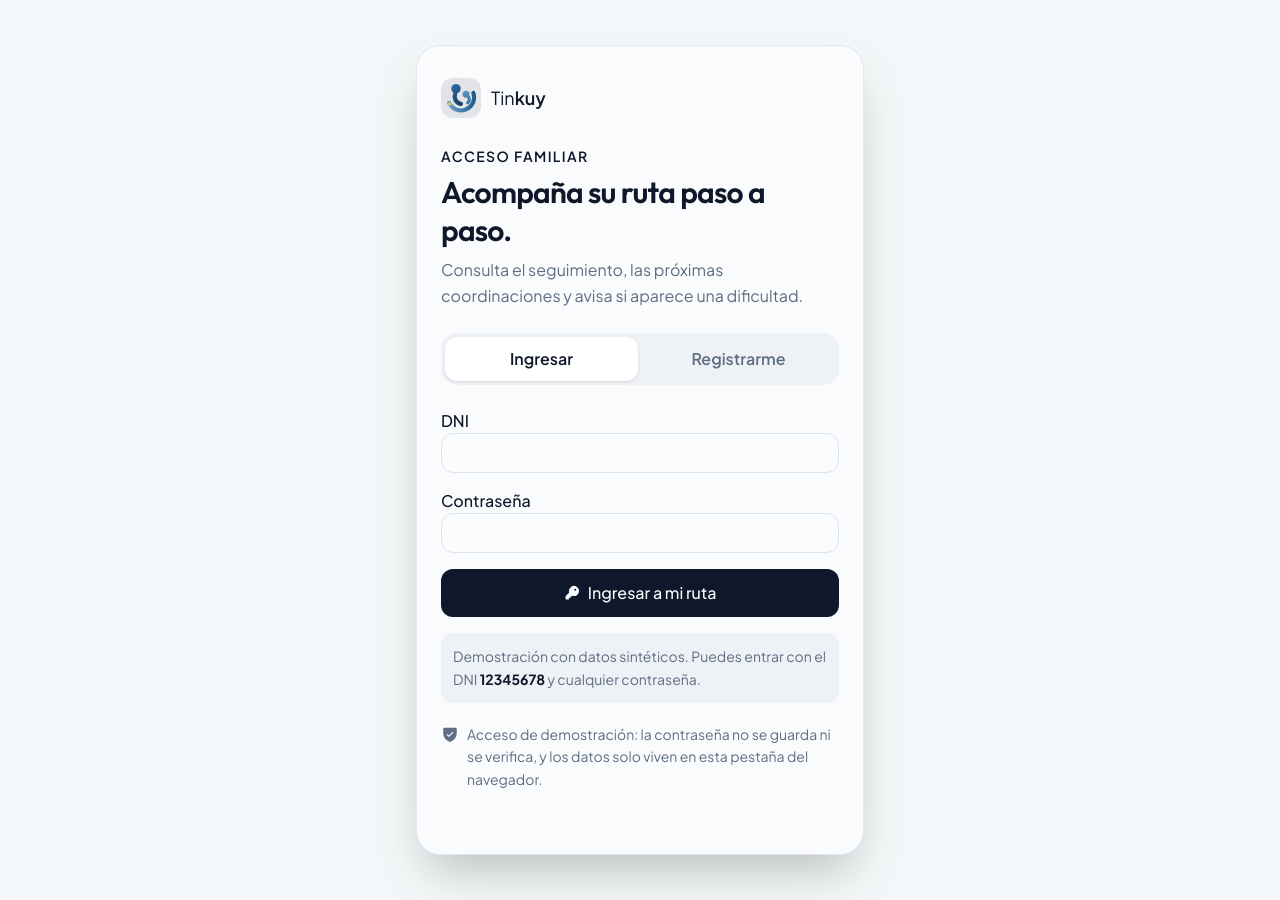
Test: FamilyAccessPage › pide detallar el seguro solo cuando se elige «Otro»
Step 1. Click the tab "Registrarme" → (738, 359), box [642,337,835,381]
(page scrolled)
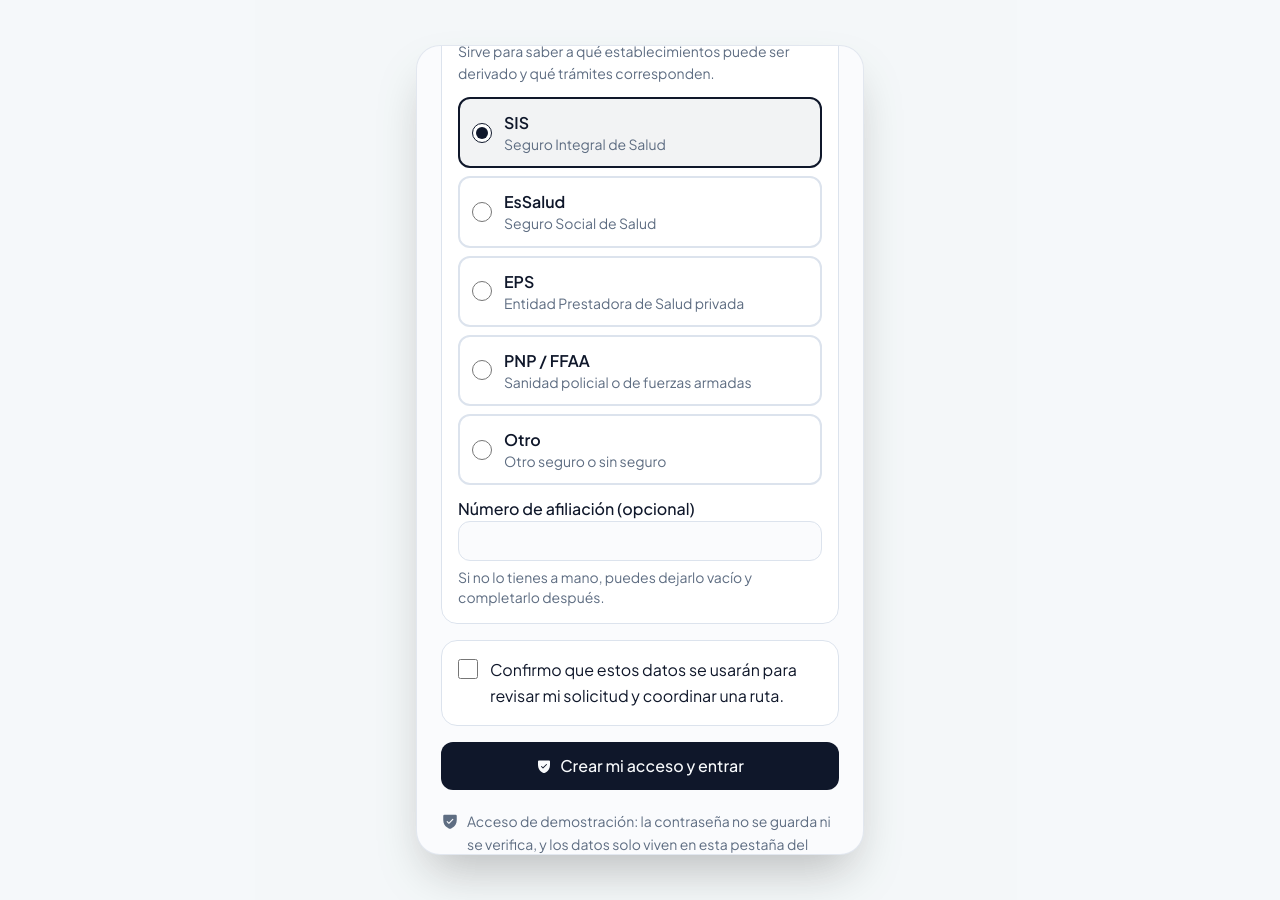
Check: the field labelled "¿Cuál?" is not shown
Step 2. Click the radio button labelled "Otro Otro seguro o sin seguro" → (482, 450), box [472,440,492,460]
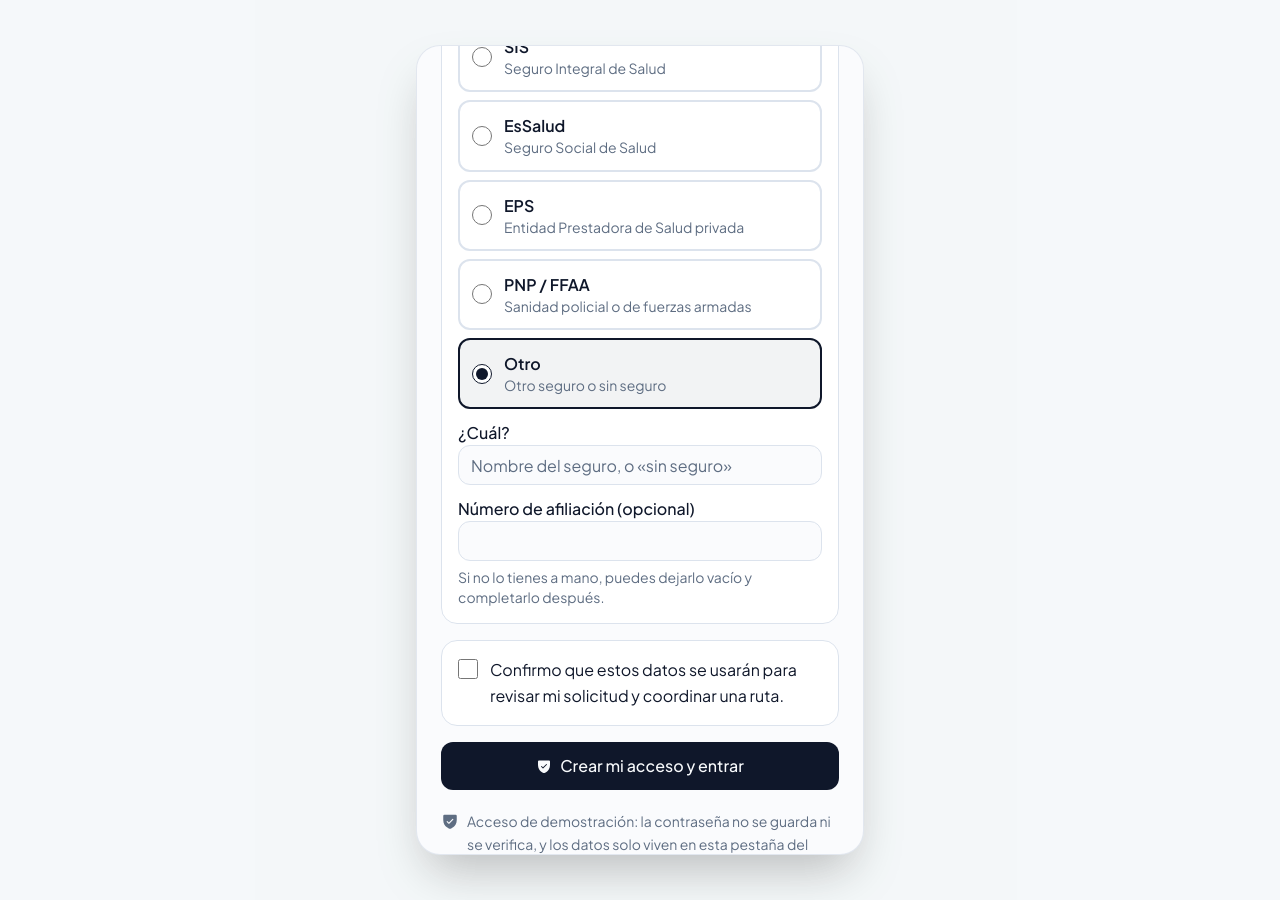
Check: the field labelled "¿Cuál?" is shown, box [458,445,822,485]
